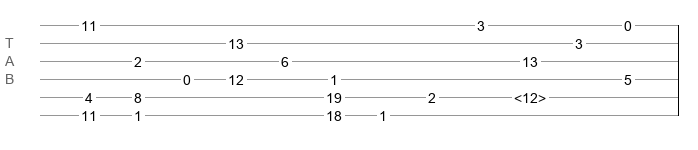0: (183, 72, 191, 82), (624, 18, 632, 28)
1: (134, 108, 142, 118), (330, 72, 338, 82), (379, 108, 387, 118)
11: (81, 18, 97, 28), (81, 108, 97, 118)
12: (228, 72, 244, 82)
13: (228, 36, 244, 46), (522, 54, 538, 64)
18: (326, 108, 342, 118)
19: (326, 90, 342, 100)
2: (134, 54, 142, 64), (428, 90, 436, 100)
3: (477, 18, 485, 28), (575, 36, 583, 46)
4: (85, 90, 93, 100)
5: (624, 72, 632, 82)
6: (281, 54, 289, 64)
8: (134, 90, 142, 100)
harmonic: (514, 90, 546, 100)
